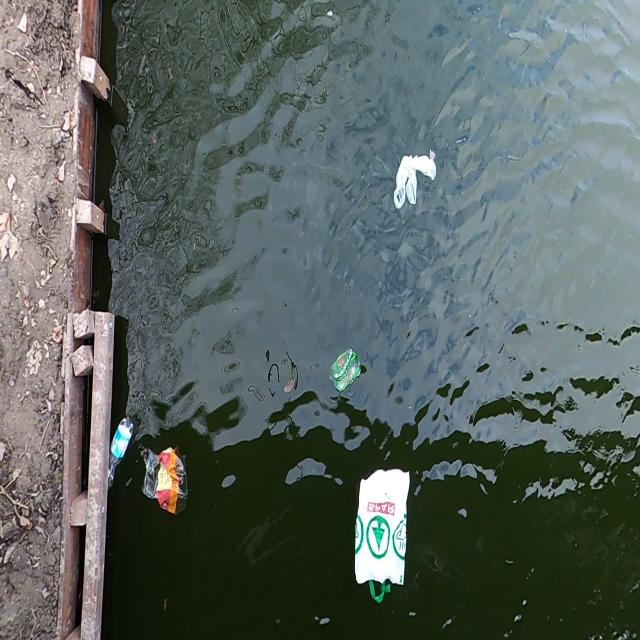Bouteille plastique: (106, 409, 135, 486)
Sac plastique: (348, 464, 417, 610), (136, 441, 191, 524), (386, 144, 443, 219), (325, 342, 364, 395)
